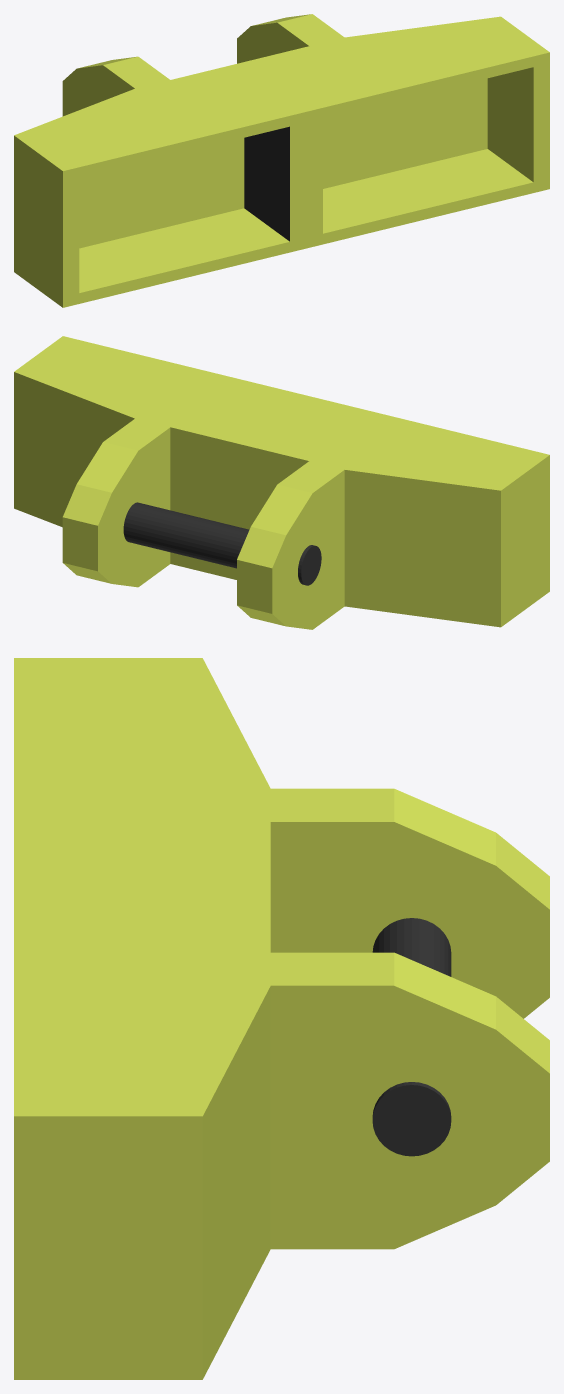
The model's file is r7000_hoist_upper.glb.
The picture shows the model from 3 angles, top to bottom: view 1: azimuth 30°, elevation 25°; view 2: azimuth 150°, elevation 25°; view 3: azimuth 270°, elevation 25°; orthographic projection. The views are drawn at different scales.
Parts seen in each view (by area): view 1: Top; view 2: Top; view 3: Top.
Part boxes in pixels (x1,y1,x2,y2): Top: [14, 14, 549, 307]; Top: [14, 336, 549, 629]; Top: [14, 658, 549, 1379].
Size of the model in its own units: 7.46 by 2 by 3.69.
